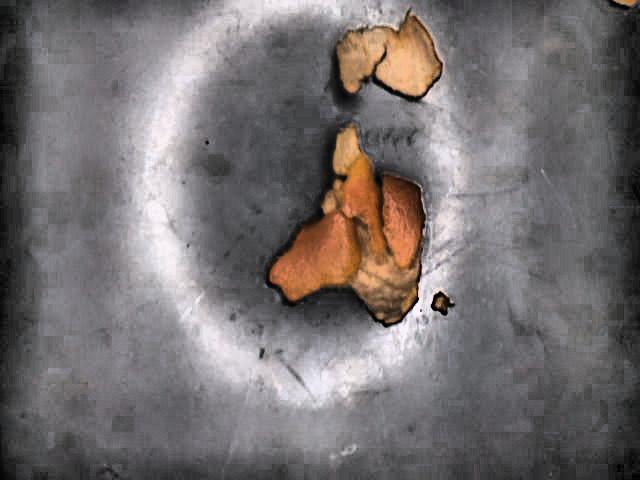Almennt: (265, 125, 425, 327), (333, 8, 443, 102), (429, 290, 457, 317), (610, 0, 640, 11)
